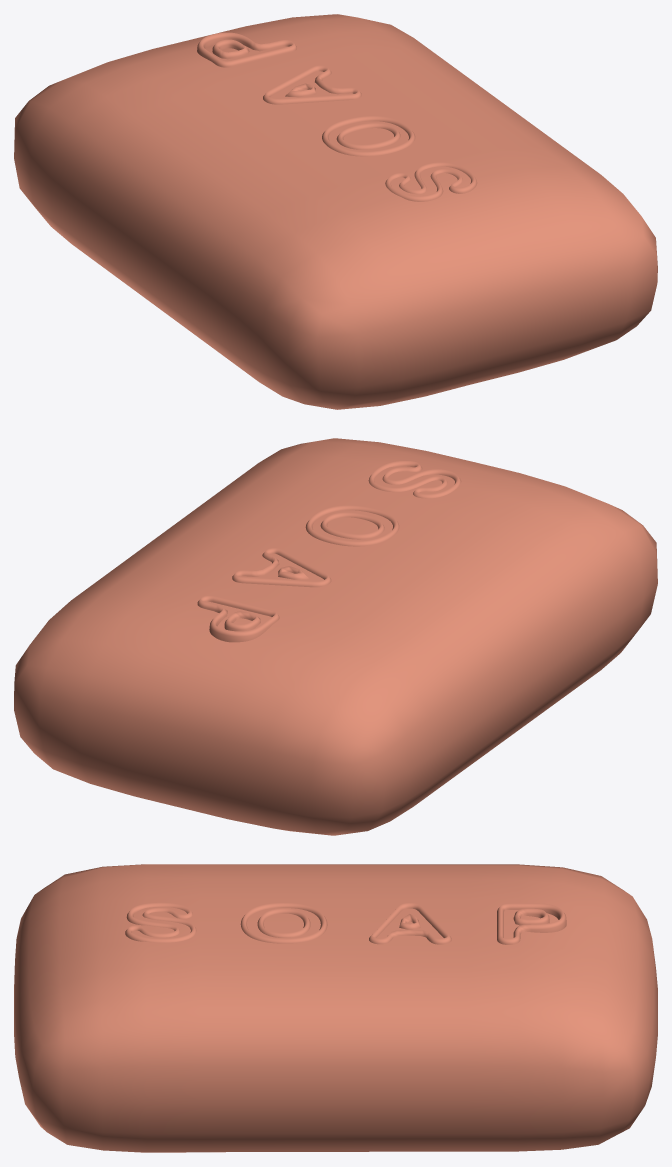
File: Soap_508.gltf
3 renders of one model, top to bottom at view 1: azimuth 30°, elevation 25°; view 2: azimuth 150°, elevation 25°; view 3: azimuth 270°, elevation 25°, orthographic.
Visible parts, largest first — view 1: node-0; view 2: node-0; view 3: node-0.
Boxes of the visible parts, x1,y1,x2,y2 form: node-0: (14, 14, 657, 409); node-0: (14, 438, 657, 835); node-0: (14, 864, 657, 1152).
Bounding box in the file's own units: 29.7 × 13.54 × 43.53.
